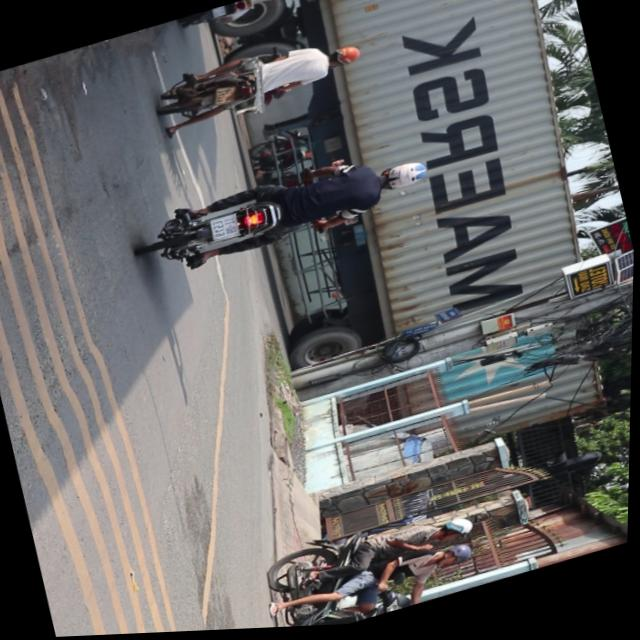helmet: (380, 160, 431, 197), (438, 517, 481, 548), (435, 543, 478, 573), (329, 45, 364, 71)
licenseplate: (131, 137, 439, 288), (253, 497, 489, 631), (152, 24, 372, 140)
nohelmet: (211, 214, 243, 243), (214, 87, 236, 107)
